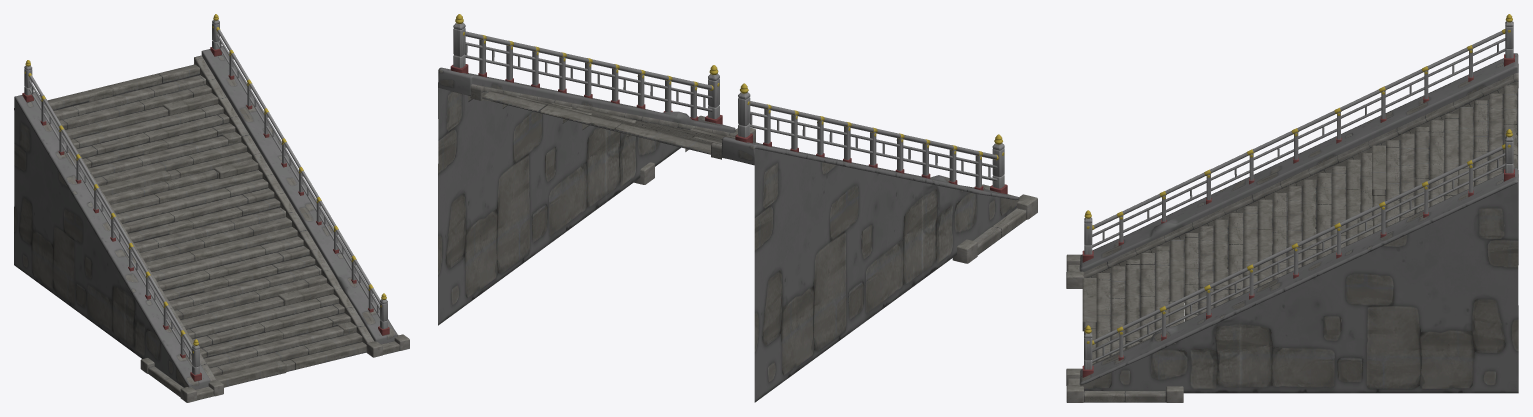
Rendered from SM_ENV_LKNVLD_Ground_StairCase_02.FBX.
3 renders of one model, left to right at view 1: azimuth 30°, elevation 25°; view 2: azimuth 150°, elevation 25°; view 3: azimuth 270°, elevation 25°, orthographic. The views are drawn at different scales.
Parts seen in each view (by area): view 1: SM_ENV_LKNVLD_Ground_StairCase_02; view 2: SM_ENV_LKNVLD_Ground_StairCase_02; view 3: SM_ENV_LKNVLD_Ground_StairCase_02.
Boxes of the visible parts, x1,y1,x2,y2 form: SM_ENV_LKNVLD_Ground_StairCase_02: (14,14,409,402); SM_ENV_LKNVLD_Ground_StairCase_02: (438,14,1037,402); SM_ENV_LKNVLD_Ground_StairCase_02: (1066,14,1518,402).
Size of the model in its own units: 879 by 790 by 1230.
